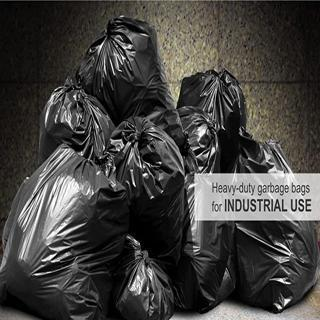Garbage: (0, 149, 132, 319), (105, 114, 183, 279), (75, 14, 171, 116), (37, 76, 118, 169), (179, 68, 251, 156)
